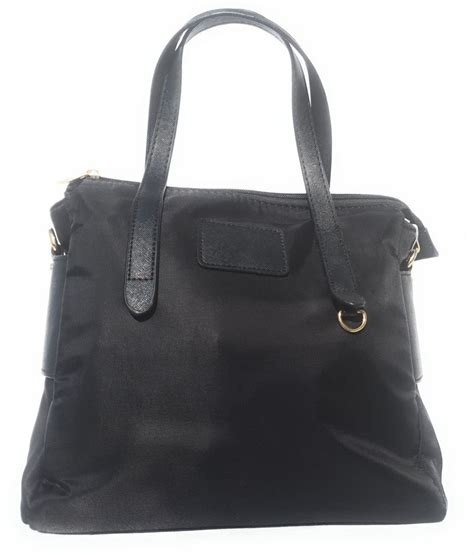nylon: (17, 175, 450, 536)
